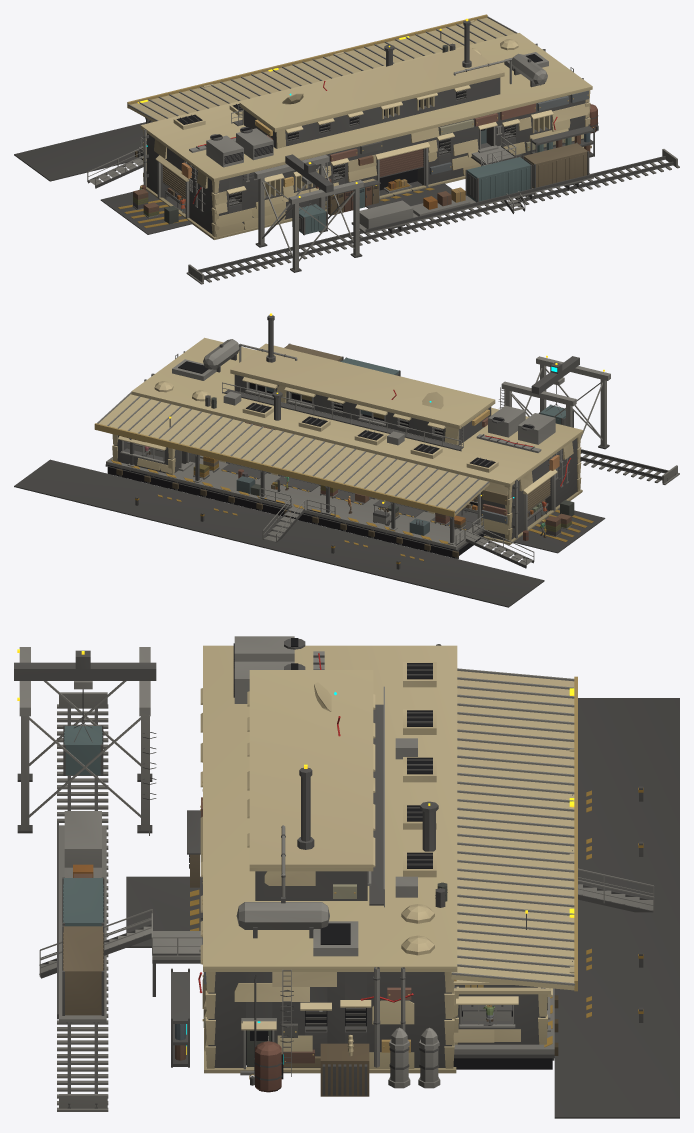
File: freight_depot.glb
3 renders of one model, top to bottom at view 1: azimuth 30°, elevation 25°; view 2: azimuth 150°, elevation 25°; view 3: azimuth 270°, elevation 25°, orthographic. The views are drawn at different scales.
Visible parts, largest first — view 1: freight_depot; view 2: freight_depot; view 3: freight_depot.
Part boxes in pixels (<box>): freight_depot: <box>14,14,679,284</box>; freight_depot: <box>14,313,679,607</box>; freight_depot: <box>14,636,679,1118</box>.
Size of the model in its own units: 53 by 13.53 by 35.6.
